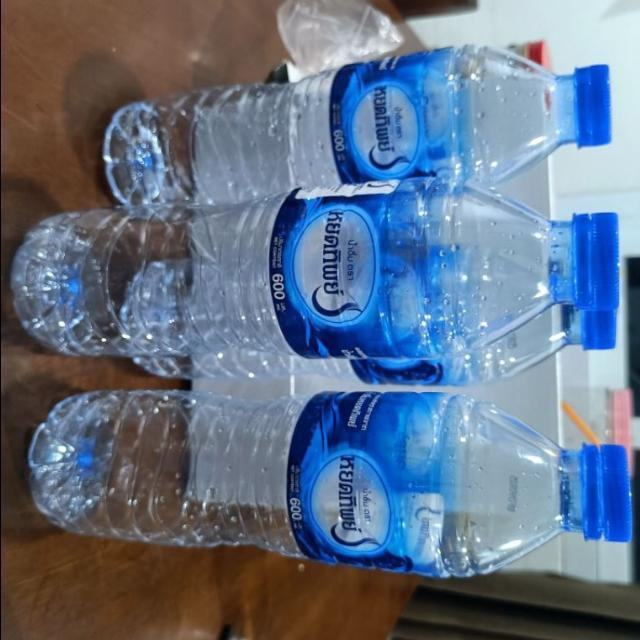PET Bottle: (14, 151, 629, 375), (32, 367, 640, 588), (36, 46, 640, 197)
